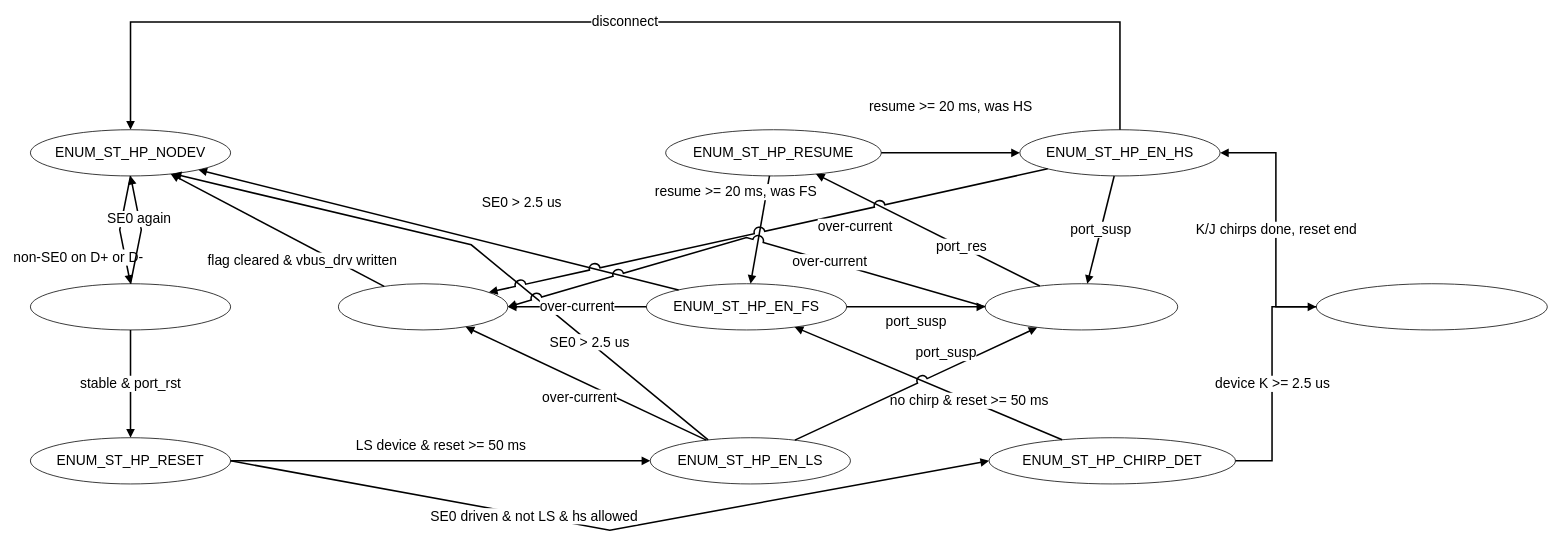
Image size: 1561x550. Some labels were removed from this diagram. The centre of each missing label's shape, as x and y in pixels:
"ENUM_ST_HP_CHIRP_TX" belongs at point 1431,306.
"ENUM_ST_HP_DEBNC" belongs at point 130,306.
"ENUM_ST_HP_OC" belongs at point 423,306.
"ENUM_ST_HP_SUSP" belongs at point 1081,306.
